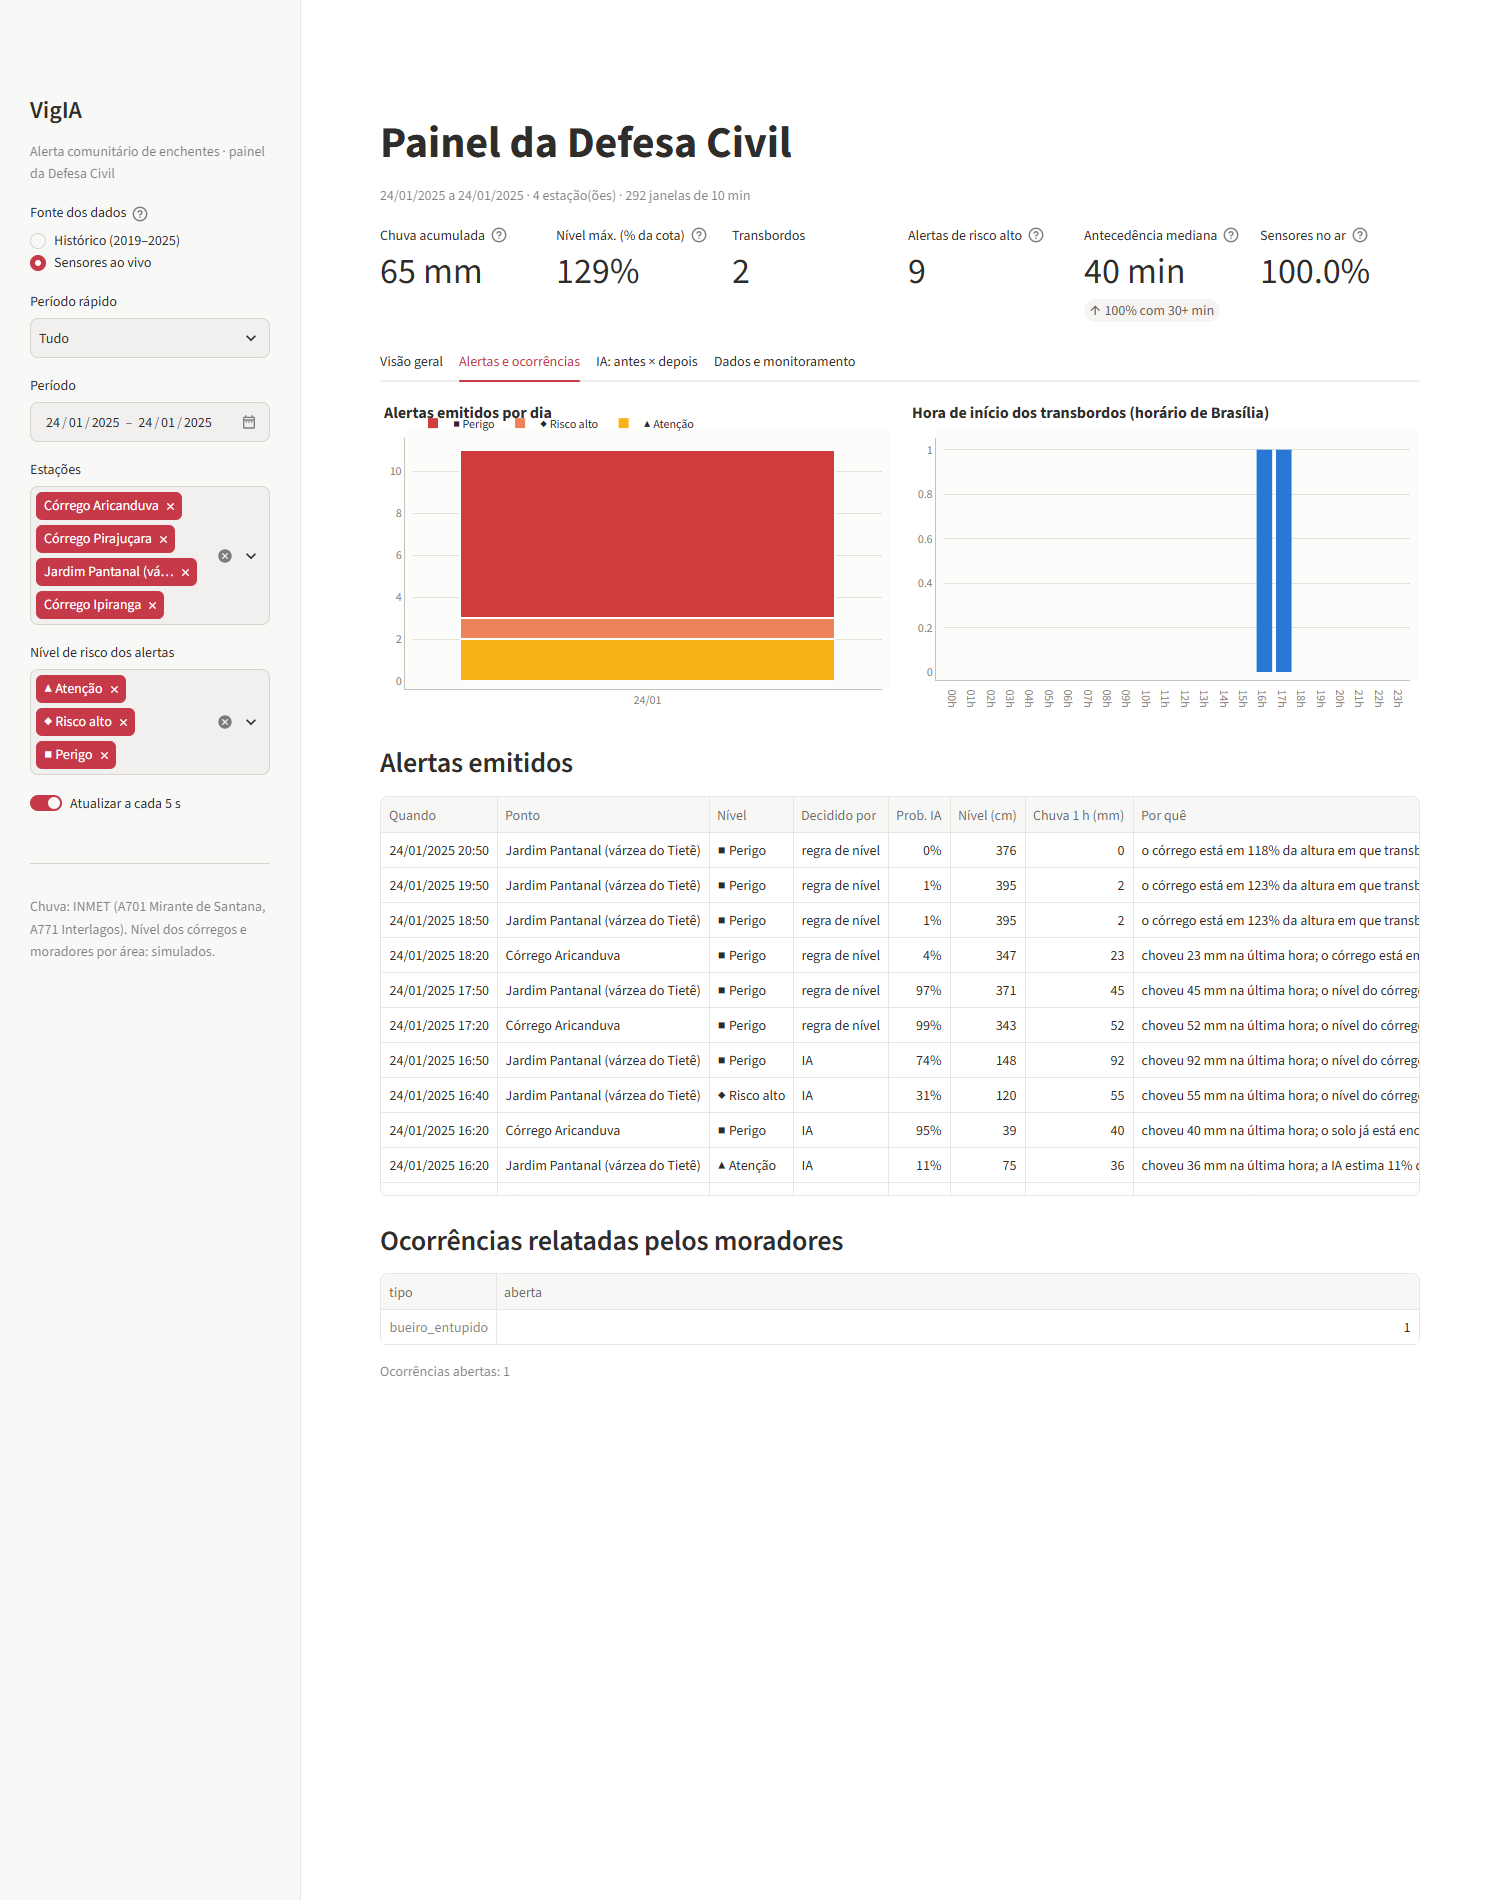

What the dashboard file says about the page in this screenshot:
{"tool":"powerbi","page":{"name":"Página 1","canvas":[1920,1080],"ordinal":0},"visuals":[{"type":"htmlContent443BE3AD55E043BF878BED274D3A6855","fields":{"content":["Medidas.VigIA Painel HTML"]},"box":[0,0,1920,1079.6],"z":0},{"type":"slicer","fields":{"Values":["dim_data.data"]},"box":[42.3,134.2,300.5,52.5],"z":1},{"type":"slicer","fields":{"Values":["dim_estacao.nome"]},"box":[367.7,137.1,356,52.5],"z":2}]}

Visuals, with their boxes on the page's 1920x1080 design canvas (x1, y1, x2, y2). These are canvas units, not pixel positions in the 1500x1900 screenshot, which may show the page scaled, cropped or inside an application window:
htmlContent443BE3AD55E043BF878BED274D3A6855 - Medidas.VigIA Painel HTML: [0,0,1920,1080]
slicer - dim_data.data: [42,134,343,187]
slicer - dim_estacao.nome: [368,137,724,190]
